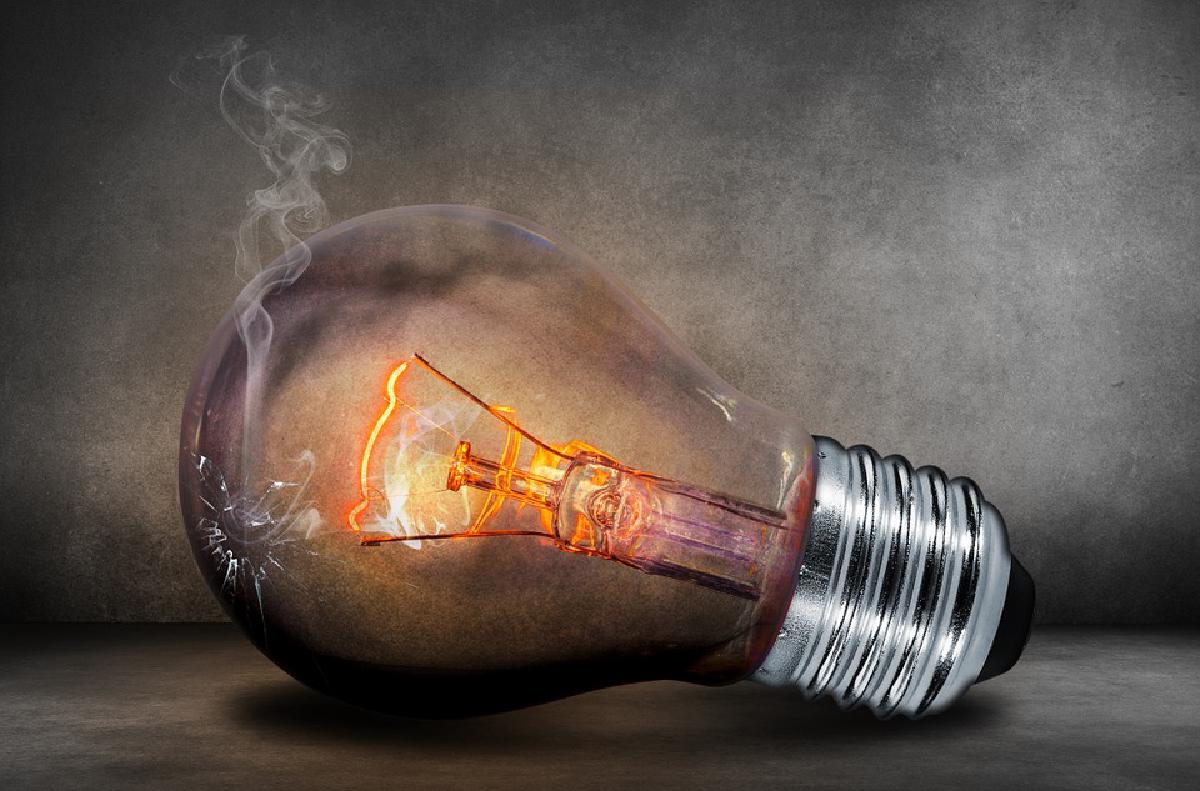Light_bulb: (163, 189, 1063, 742)
